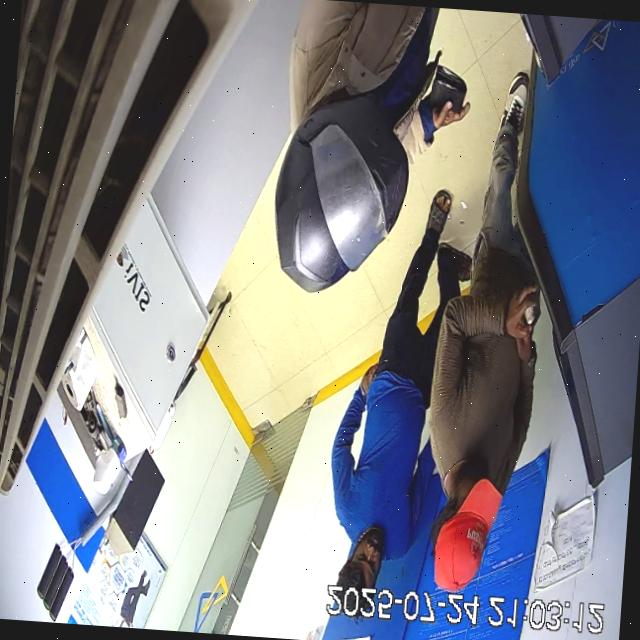helmet: (272, 95, 409, 292)
no_helmet: (430, 460, 502, 592), (335, 529, 382, 619)
